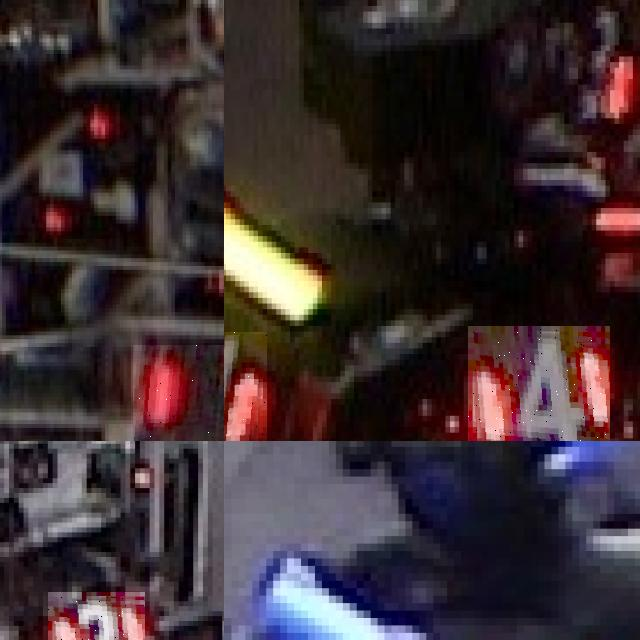R1: (133, 345, 224, 441)
R2: (48, 591, 145, 640)
R4: (468, 325, 609, 441), (224, 331, 267, 441)
